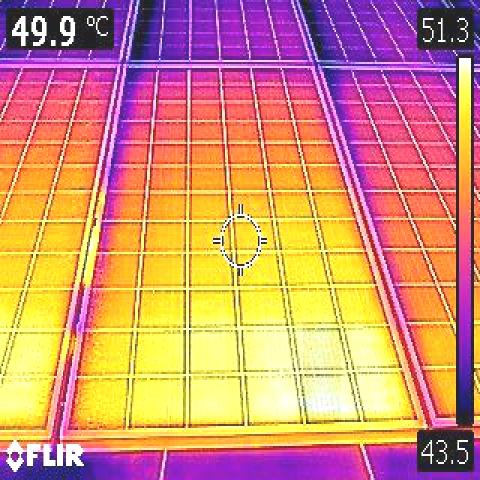fault: (303, 322, 341, 426)
